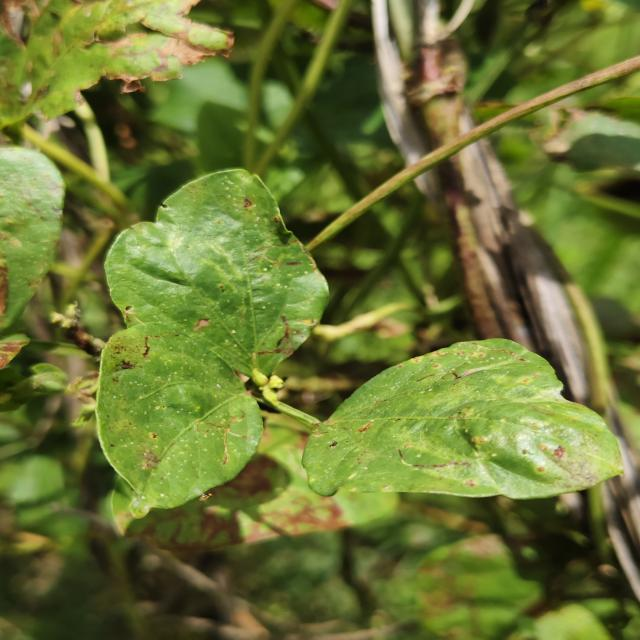sitaw-aphid-high: (97, 169, 328, 514), (302, 339, 623, 499)
